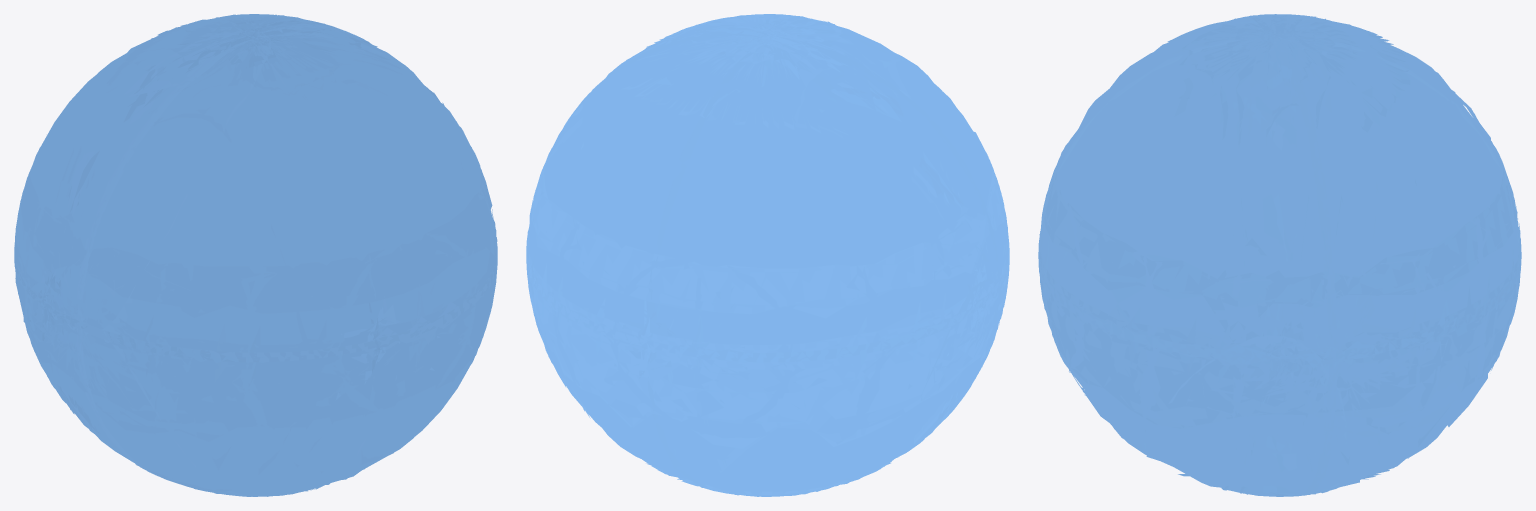
Rendered from tank-A5.glb.
The picture shows the model from 3 angles, left to right: view 1: azimuth 30°, elevation 25°; view 2: azimuth 150°, elevation 25°; view 3: azimuth 270°, elevation 25°; orthographic projection.
Parts seen in each view (by area): view 1: buoyancy_tanks; view 2: buoyancy_tanks; view 3: buoyancy_tanks.
Part boxes in pixels (left/top/right/bottom): buoyancy_tanks: left=14, top=14, right=497, bottom=496; buoyancy_tanks: left=526, top=14, right=1009, bottom=496; buoyancy_tanks: left=1038, top=14, right=1521, bottom=496.
Bounding box in the file's own units: 2 × 2 × 2.
